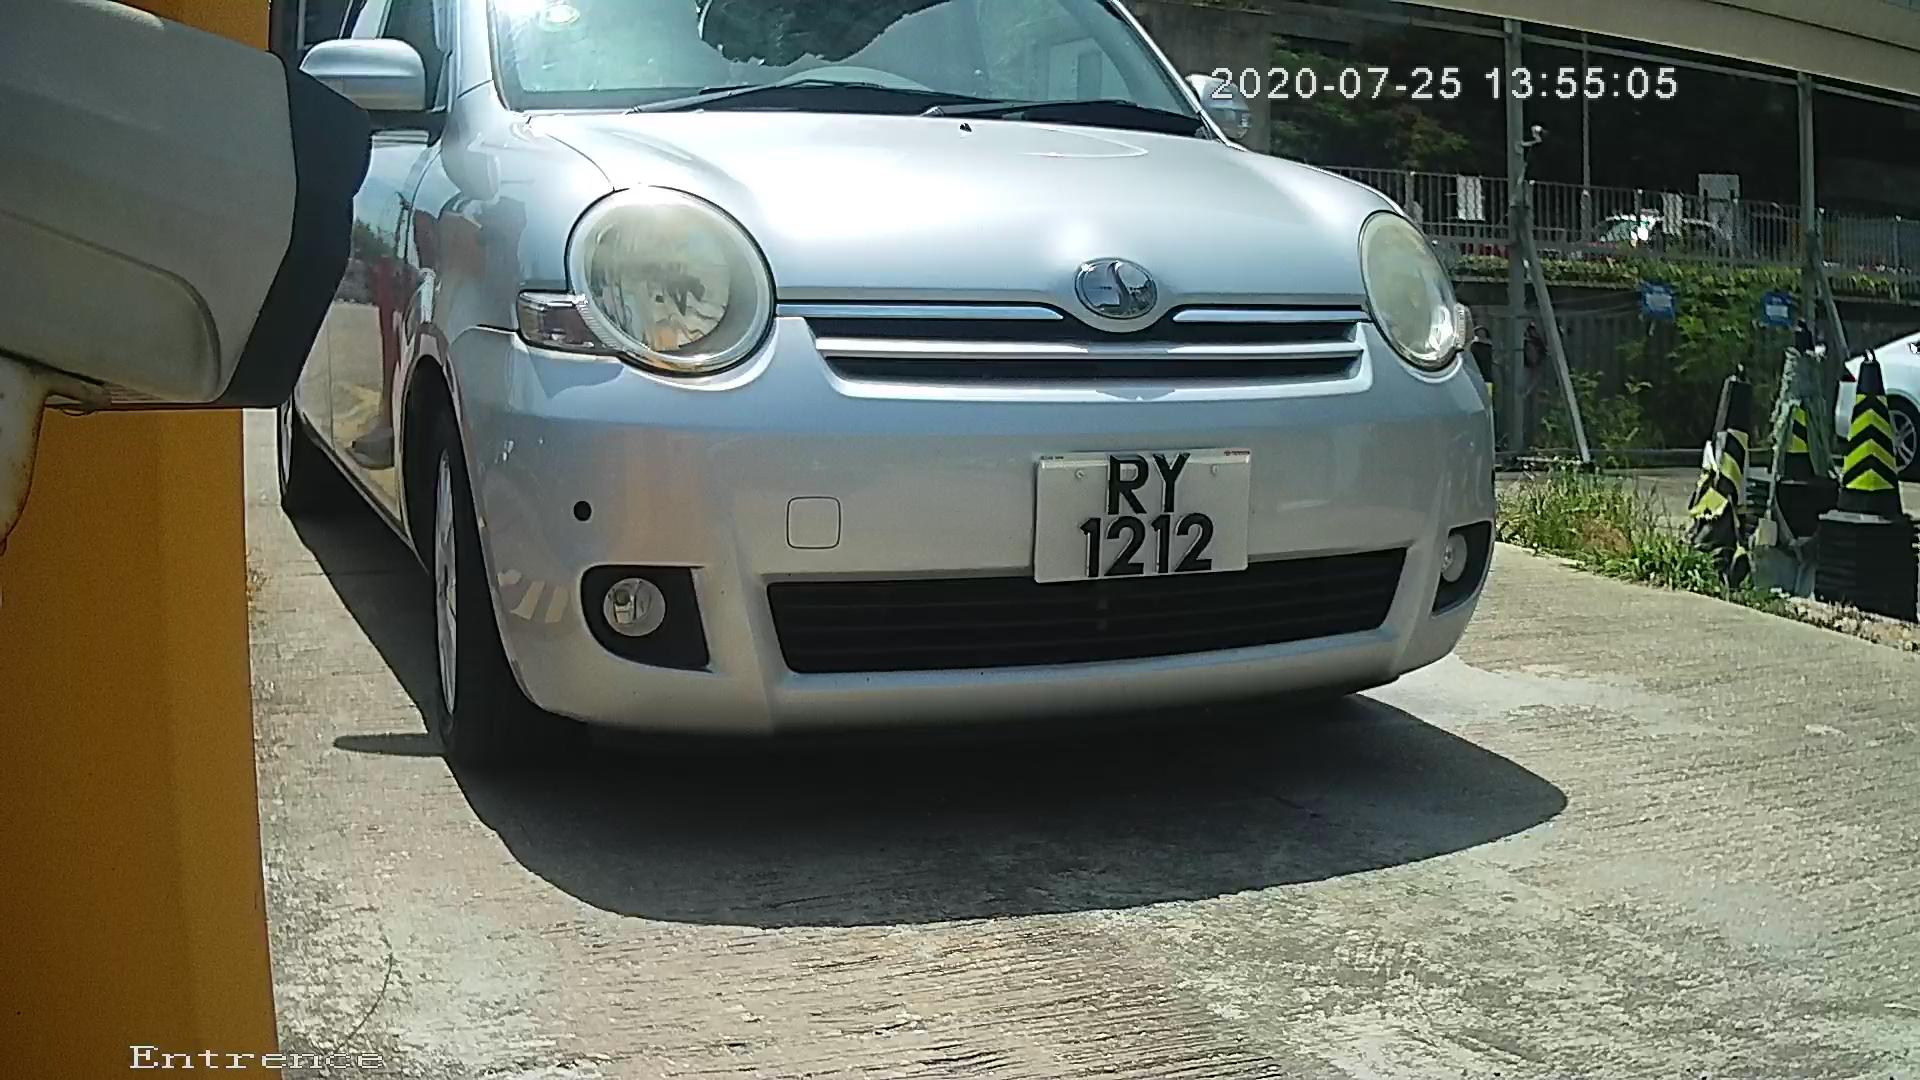Car: (172, 5, 1561, 844)
License Plate: (1012, 434, 1261, 608)
